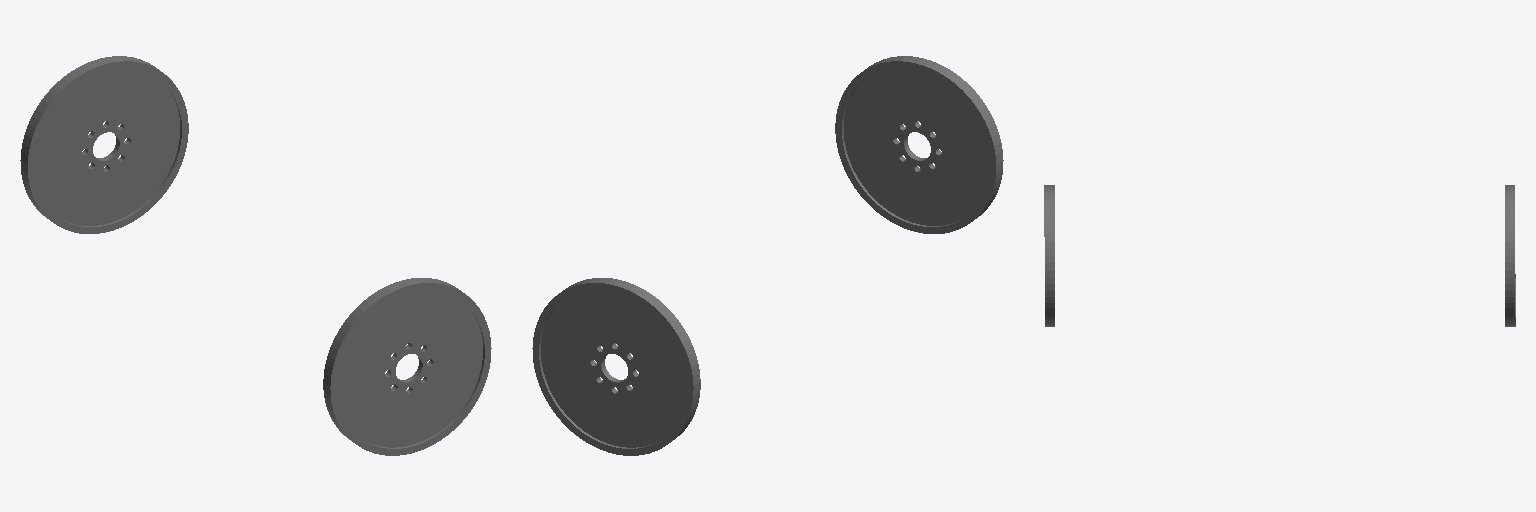
URDF robot description (dede):
<robot name="dede">
    <material name="grey">
        <color rgba="0.5 0.5 0.5 1.0" />
    </material>

    <link name="base_link">
        <visual>
            <origin xyz="0 0 0" rpy="0 0 0" />
            <geometry>
                <mesh filename="package://dede/models/dede/meshes/base.stl"/>
            </geometry>
            <material name="grey" />
        </visual>
    </link>
    <link name="lidar_link">
        <visual>
            <origin xyz="0 0 -0.136" rpy="0 0 0" />
            <geometry>
                <mesh filename="package://dede/models/dede/meshes/lidar.stl" />
            </geometry>
            <material name="grey" />
        </visual>
    </link>
    <joint name="lidar_joint" type="fixed">
        <parent link="base_link"/>
        <child link="lidar_link"/>
        <origin xyz="0 0 0.136" rpy="0 0 0"/>
    </joint>

    <link name="left_wheel_link">
        <visual>
            <origin xyz="0 0 0" rpy="0 0 0" />
            <geometry>
                <mesh filename="package://dede/models/dede/meshes/wheel.stl" />
            </geometry>
            <material name="grey" />
        </visual>
    </link>
    <joint name="left_wheel_joint" type="continuous">
        <parent link="base_link"/>
        <child link="left_wheel_link"/>
        <origin xyz="0 0.124 0.038" rpy="-1.57 0 0"/>
        <axis xyz="0 0 1"/>
    </joint>

    <link name="right_wheel_link">
        <visual>
            <origin xyz="0 0 0" rpy="0 0 0" />
            <geometry>
                <mesh filename="package://dede/models/dede/meshes/wheel.stl" />
            </geometry>
            <material name="grey" />
        </visual>
    </link>
    <joint name="right_wheel_joint" type="continuous">
        <parent link="base_link"/>
        <child link="right_wheel_link"/>
        <origin xyz="0 -0.124 0.038" rpy="-1.57 0 0"/>
        <axis xyz="0 0 1"/>
    </joint>
</robot>

--- What the picture shows (computed from the rendered views, not written in the file) ---
The picture shows the robot from 3 angles, left to right: view 1: azimuth 30°, elevation 25°; view 2: azimuth 150°, elevation 25°; view 3: azimuth 270°, elevation 25°; orthographic projection.
Model dede with 4 links and 3 joints (2 continuous, 1 fixed), rooted at base_link, posed all joints at 0.
Visible links, largest first — view 1: left_wheel_link, right_wheel_link; view 2: right_wheel_link, left_wheel_link; view 3: left_wheel_link, right_wheel_link.
Link boxes in pixels (box(x1,y1,x2,y2)): left_wheel_link: box(20, 56, 188, 233); right_wheel_link: box(323, 278, 491, 455); right_wheel_link: box(835, 56, 1003, 233); left_wheel_link: box(532, 278, 700, 455); left_wheel_link: box(1505, 185, 1515, 326); right_wheel_link: box(1044, 185, 1054, 326).
Bounding box of the posed robot: 0.0762 × 0.2539 × 0.0762 m (x, y, z).
2 mesh visuals loaded from 3 distinct referenced files (1 binary STL); not drawn: 2 (reference not matched to a file when rendering).
